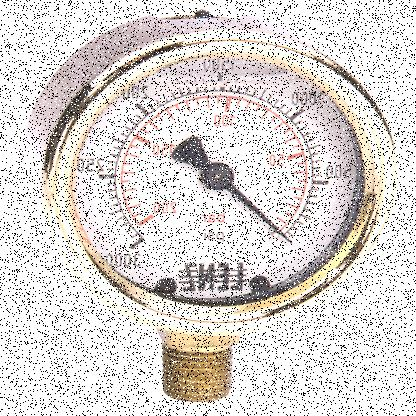needle: (225, 182, 294, 245)
